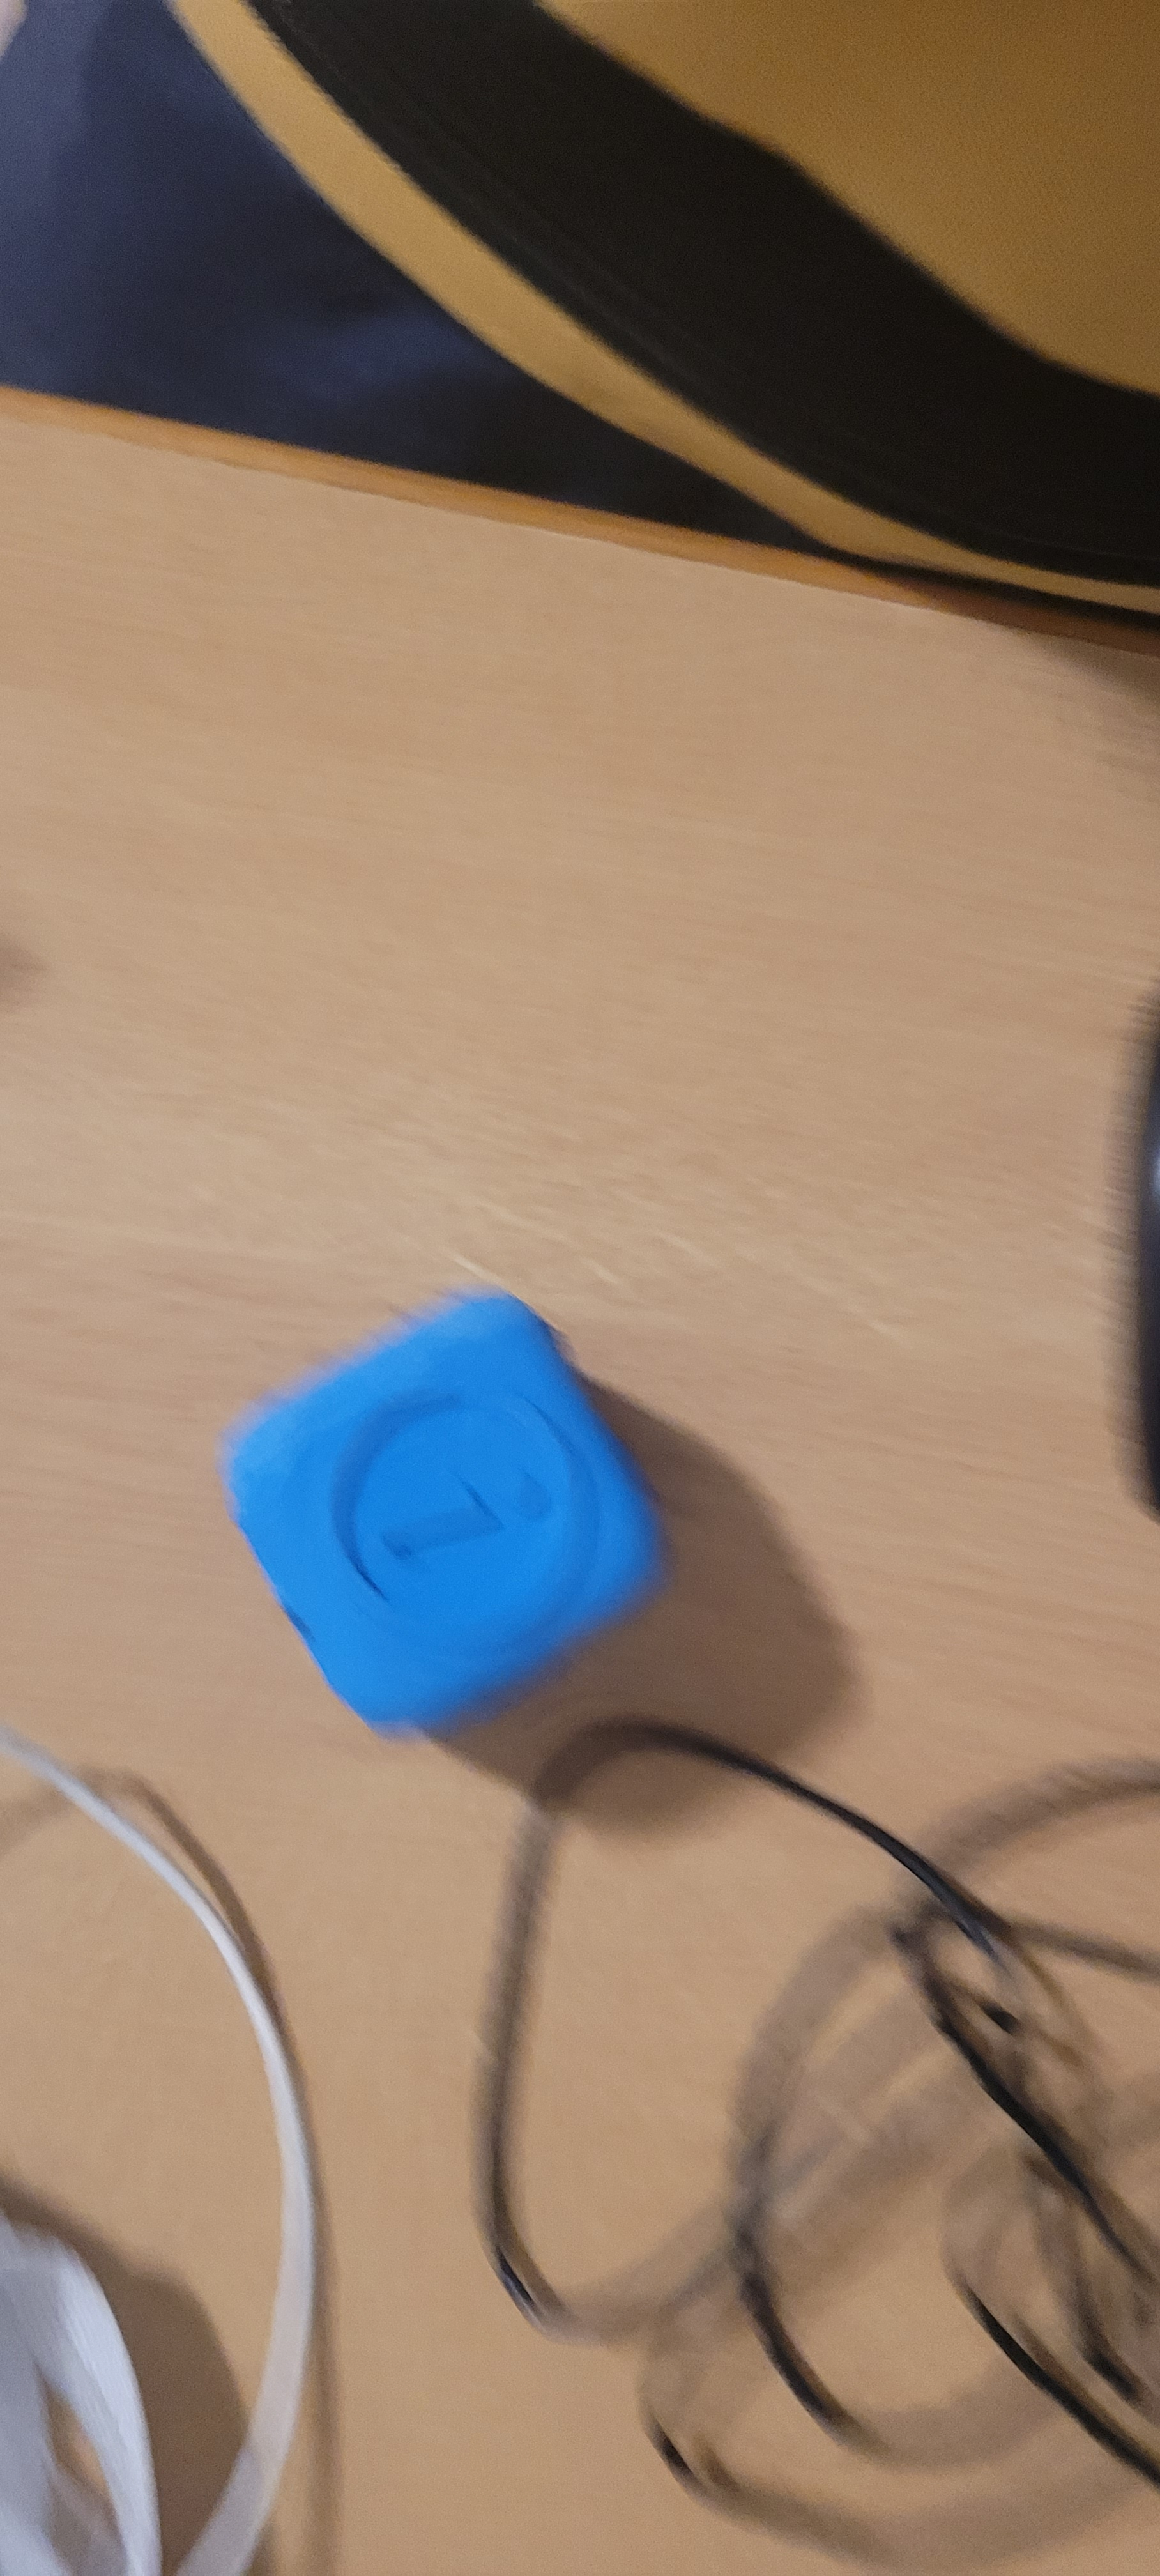Info: (233, 1354, 659, 1712)
